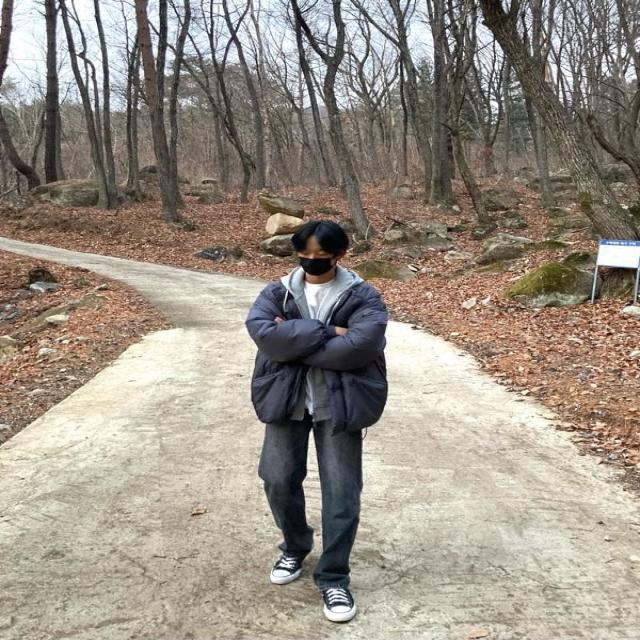denimpants: (261, 412, 364, 585)
padding: (243, 262, 388, 433)
